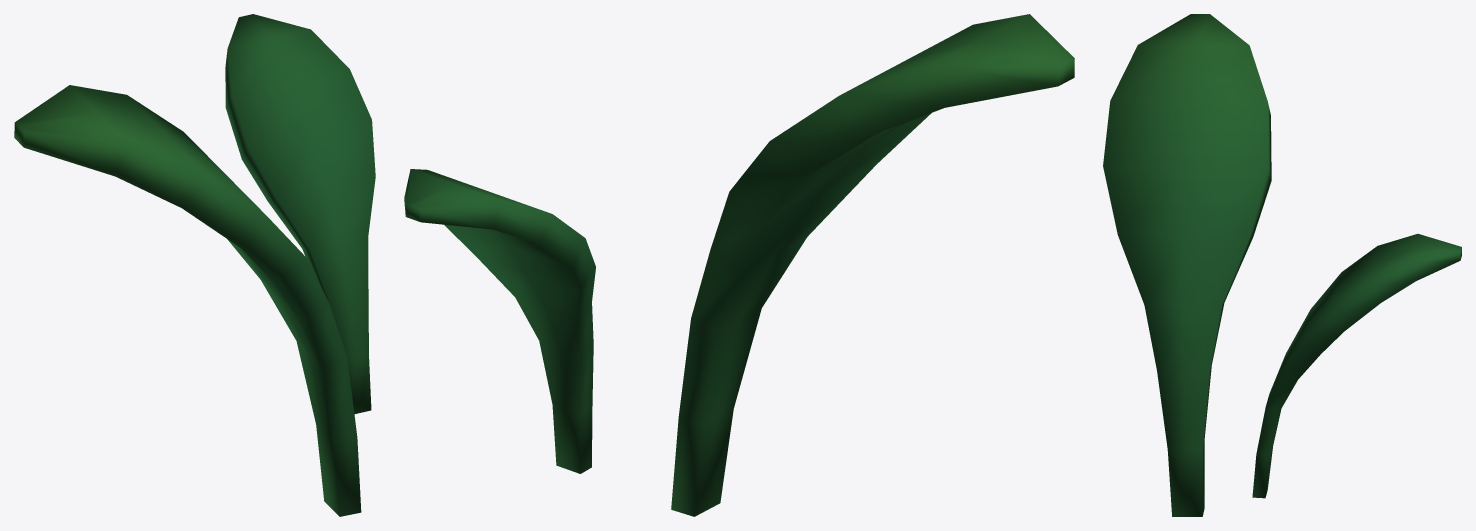
File: flowerleaves2.fbx
3 views of the same model, side by side, from view 1: azimuth 30°, elevation 25°; view 2: azimuth 150°, elevation 25°; view 3: azimuth 270°, elevation 25° (orthographic). The views are drawn at different scales.
Parts seen in each view (by area): view 1: Cylinder.027; view 2: Cylinder.027; view 3: Cylinder.027.
Boxes of the visible parts, bbox=[...] form: Cylinder.027: bbox=[14, 14, 375, 516]; Cylinder.027: bbox=[404, 14, 1074, 516]; Cylinder.027: bbox=[1103, 14, 1461, 516].
Bounding box in the file's own units: 10.81 × 10.78 × 9.39.
